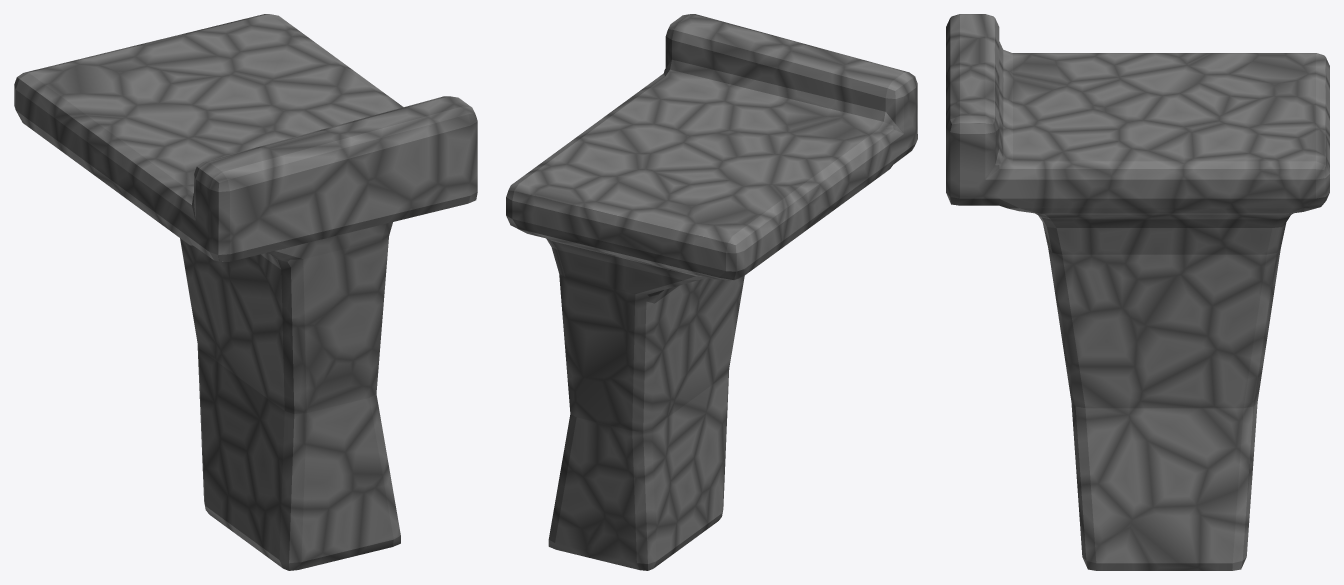
File: bridge_med.fbx
The picture shows the model from 3 angles, left to right: view 1: azimuth 30°, elevation 25°; view 2: azimuth 150°, elevation 25°; view 3: azimuth 270°, elevation 25°; orthographic projection. The views are drawn at different scales.
Visible parts, largest first — view 1: Cube.001; view 2: Cube.001; view 3: Cube.001.
Boxes of the visible parts, x1=… form: Cube.001: x1=14, y1=14, x2=477, y2=570; Cube.001: x1=506, y1=14, x2=917, y2=570; Cube.001: x1=946, y1=14, x2=1329, y2=570.
Size of the model in its own units: 286 by 507 by 388.
1 material, 1 textured.
